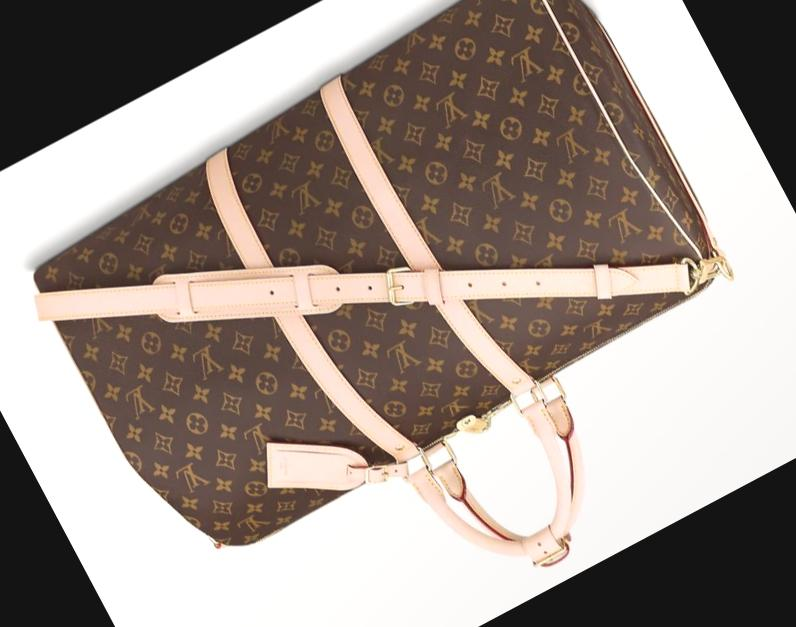LOUIS-VUITTON: (3, 0, 745, 582)
